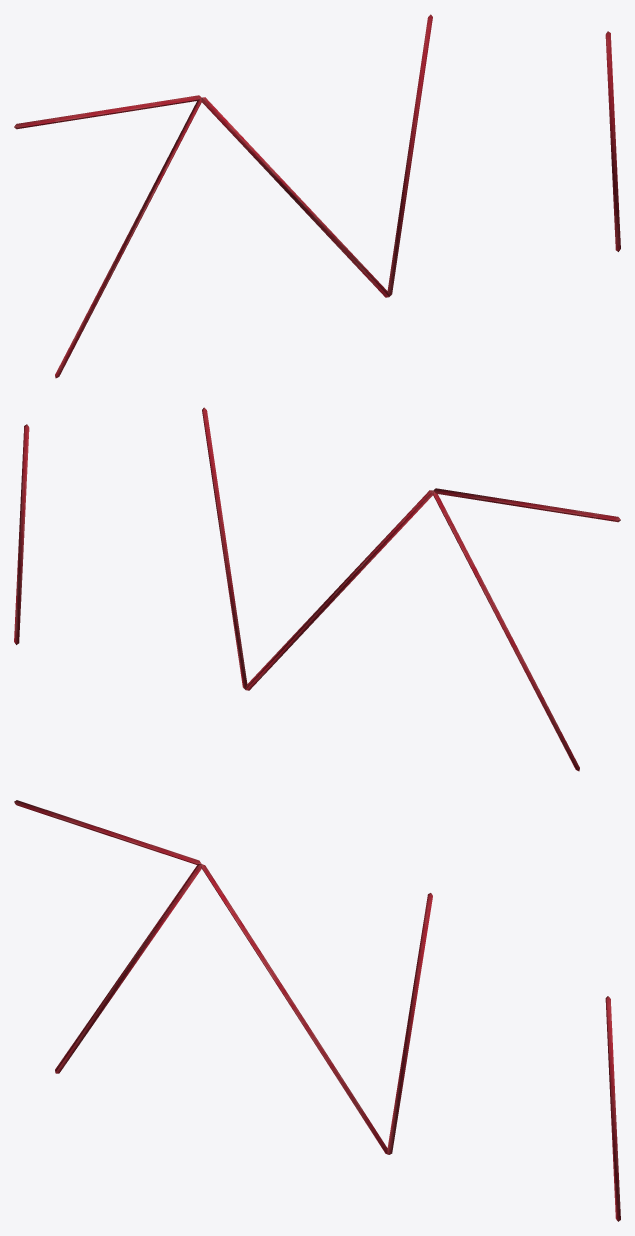
The model's file is Tablero_Hilos.fbx.
3 renders of one model, top to bottom at view 1: azimuth 30°, elevation 25°; view 2: azimuth 150°, elevation 25°; view 3: azimuth 330°, elevation 25°, orthographic.
Visible parts, largest first — view 1: Tablero_Hilos; view 2: Tablero_Hilos; view 3: Tablero_Hilos.
Part boxes in pixels (<box>): Tablero_Hilos: <box>14,14,620,378</box>; Tablero_Hilos: <box>14,407,620,771</box>; Tablero_Hilos: <box>14,800,620,1221</box>.
Size of the model in its own units: 5.82 by 2.6 by 0.05.
